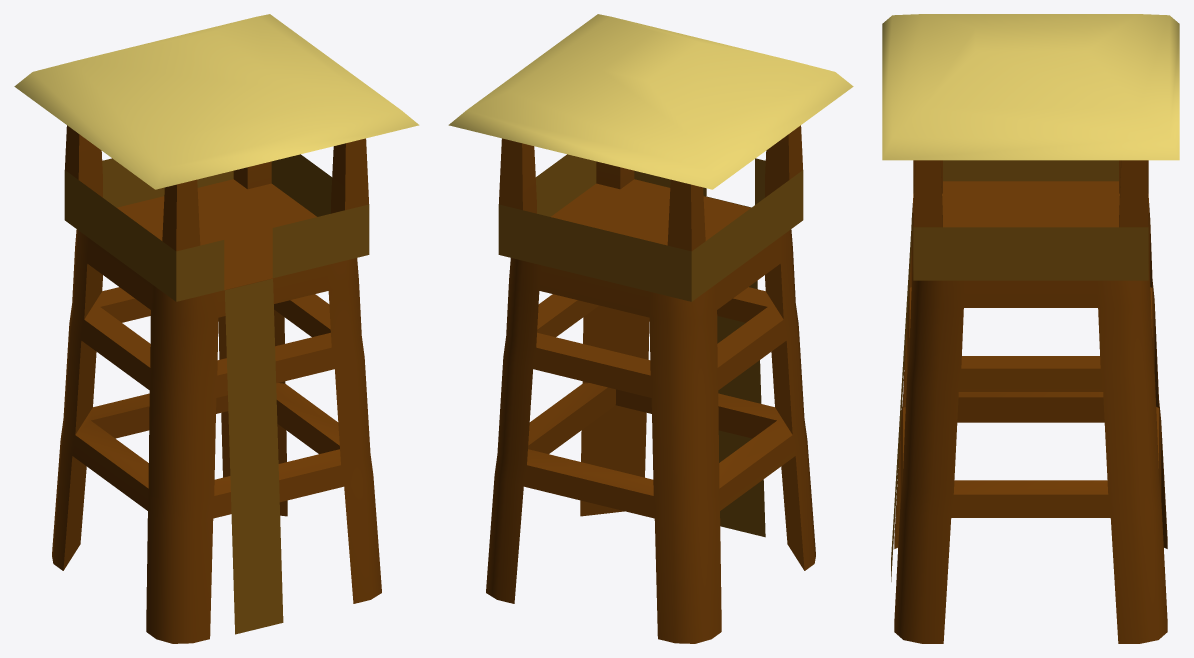
Rendered from ObservationPoint.fbx.
The picture shows the model from 3 angles, left to right: view 1: azimuth 30°, elevation 25°; view 2: azimuth 150°, elevation 25°; view 3: azimuth 270°, elevation 25°; orthographic projection. The views are drawn at different scales.
Visible parts, largest first — view 1: Base, Roof, Gates_and_Ladder; view 2: Base, Roof, Gates_and_Ladder; view 3: Base, Roof, Gates_and_Ladder.
Boxes of the visible parts, x1,y1,x2,y2 form: Base: [52, 125, 381, 643]; Roof: [14, 14, 419, 189]; Gates_and_Ladder: [64, 154, 369, 634]; Base: [486, 125, 815, 643]; Roof: [448, 14, 853, 189]; Gates_and_Ladder: [498, 154, 803, 537]; Base: [894, 160, 1167, 643]; Roof: [882, 14, 1179, 160]; Gates_and_Ladder: [891, 160, 1148, 581].
Bounding box in the file's own units: 206 × 385 × 190.
